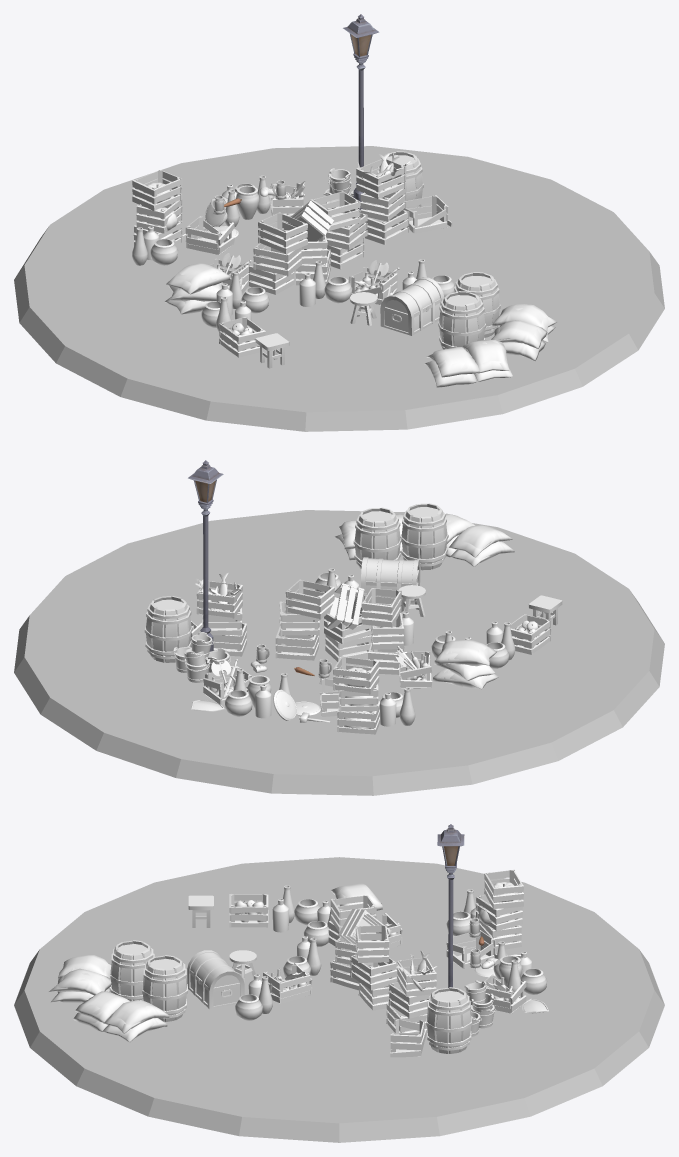
Rendered from TestScenaA.gltf.
The picture shows the model from 3 angles, top to bottom: view 1: azimuth 30°, elevation 25°; view 2: azimuth 150°, elevation 25°; view 3: azimuth 270°, elevation 25°; orthographic projection.
Visible parts, largest first — view 1: pCylinder1, Bag_4, Bag_4__1_, Barrel__3_, Lamp_76, Chest_LOD0, Chest_1, Case_1_LOD0_1, Bag_4_LOD0, Barrel_LOD0_1, Case_1_LOD0_10, Case_2_LOD0_3 (+21 smaller); view 2: pCylinder1, Barrel_LOD0_1, Lamp_76, Barrel_LOD0, Bag_4__1_, Barrel__1_, Chest_1, Barrel_LOD0_2, Barrel__3_, Barrel__2_, Case_1_LOD0_1, Case_1_LOD0_10 (+27 smaller); view 3: pCylinder1, Bag_4, Barrel_LOD0_2, Barrel_LOD0, Chest_LOD0, Bag_4__1_, Barrel_LOD0_1, Lamp_76, Case_1_LOD0_1, Case_and_food_1_LOD0, Case_2_LOD0, Case_1_LOD0_7 (+22 smaller).
Boxes of the visible parts, <box> form: pCylinder1: <box>14,146,664,431</box>; Bag_4: <box>491,304,556,360</box>; Bag_4__1_: <box>427,340,512,387</box>; Barrel__3_: <box>438,292,485,352</box>; Lamp_76: <box>343,14,379,212</box>; Chest_LOD0: <box>382,278,444,335</box>; Chest_1: <box>380,277,441,335</box>; Case_1_LOD0_1: <box>132,170,182,211</box>; Bag_4_LOD0: <box>425,340,507,387</box>; Barrel_LOD0_1: <box>438,291,484,348</box>; Case_1_LOD0_10: <box>258,212,307,253</box>; Case_2_LOD0_3: <box>185,216,234,254</box>; pCylinder1: <box>14,510,664,795</box>; Barrel_LOD0_1: <box>400,503,448,570</box>; Lamp_76: <box>188,460,223,651</box>; Barrel_LOD0: <box>353,507,401,568</box>; Bag_4__1_: <box>445,513,512,563</box>; Barrel__1_: <box>144,596,192,662</box>; Chest_1: <box>361,558,420,604</box>; Barrel_LOD0_2: <box>144,596,186,662</box>; Barrel__3_: <box>401,503,448,569</box>; Barrel__2_: <box>353,508,401,564</box>; Case_1_LOD0_1: <box>333,656,379,694</box>; Case_1_LOD0_10: <box>361,588,401,627</box>; pCylinder1: <box>14,857,664,1142</box>; Bag_4: <box>73,991,169,1041</box>; Barrel_LOD0_2: <box>426,988,472,1053</box>; Barrel_LOD0: <box>142,955,187,1021</box>; Chest_LOD0: <box>187,950,244,1009</box>; Bag_4__1_: <box>49,955,110,1002</box>; Barrel_LOD0_1: <box>110,940,154,1001</box>; Lamp_76: <box>437,824,464,987</box>; Case_1_LOD0_1: <box>484,869,523,909</box>; Case_and_food_1_LOD0: <box>229,894,268,927</box>; Case_2_LOD0: <box>390,1018,426,1057</box>; Case_1_LOD0_7: <box>355,925,389,962</box>.
Size of what is drawn, in the model's own units: 13.45 by 4.99 by 13.45.
